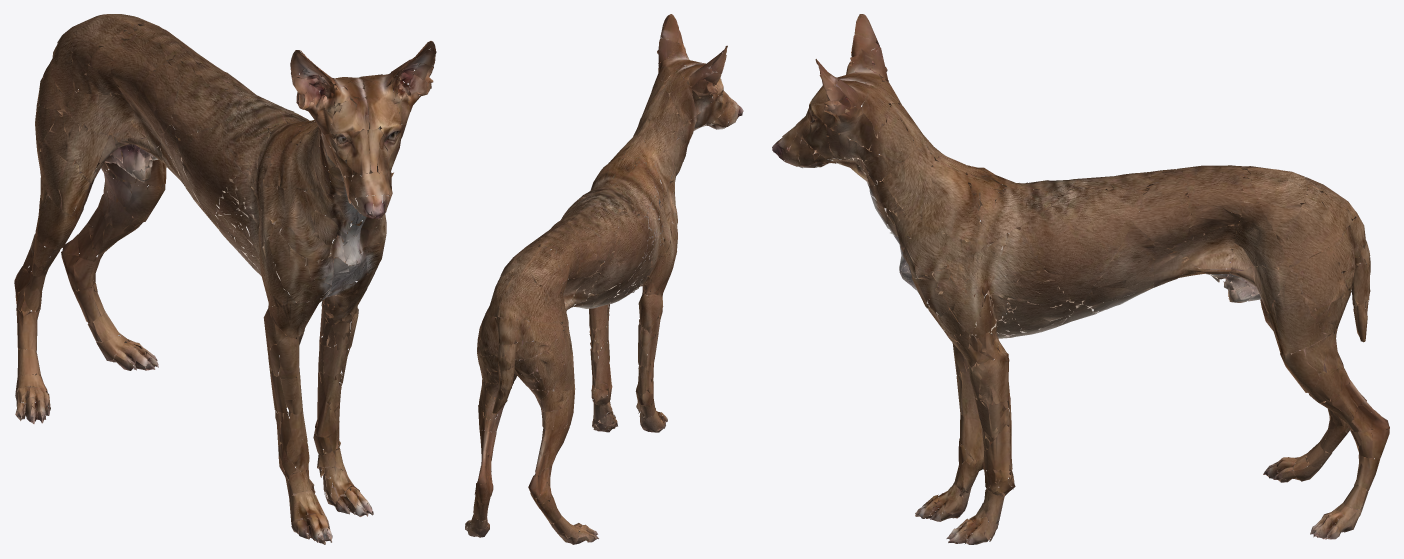
Rendered from hound-build44.glb.
3 renders of one model, left to right at view 1: azimuth 30°, elevation 25°; view 2: azimuth 150°, elevation 25°; view 3: azimuth 270°, elevation 25°, orthographic. The views are drawn at different scales.
Parts seen in each view (by area): view 1: hound; view 2: hound; view 3: hound.
Boxes of the visible parts, box(x1,y1,x2,y2) form: hound: box(14, 14, 436, 544); hound: box(465, 14, 743, 544); hound: box(772, 14, 1389, 544).
Size of the model in its own units: 0.3597 by 1 by 1.17.
1 material, 1 textured.
